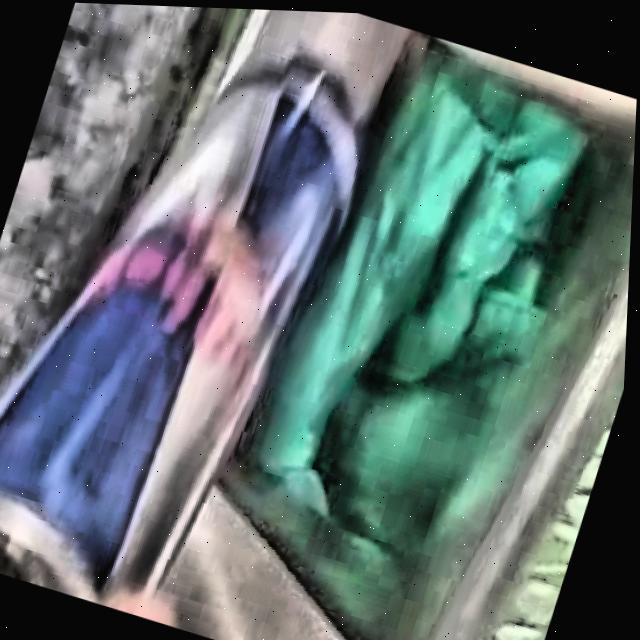metal: (0, 60, 360, 603)
